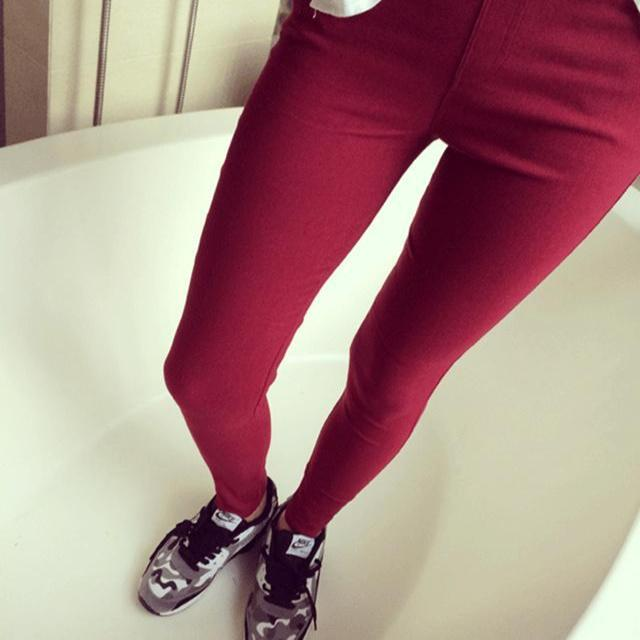trousers: (163, 3, 638, 540)
